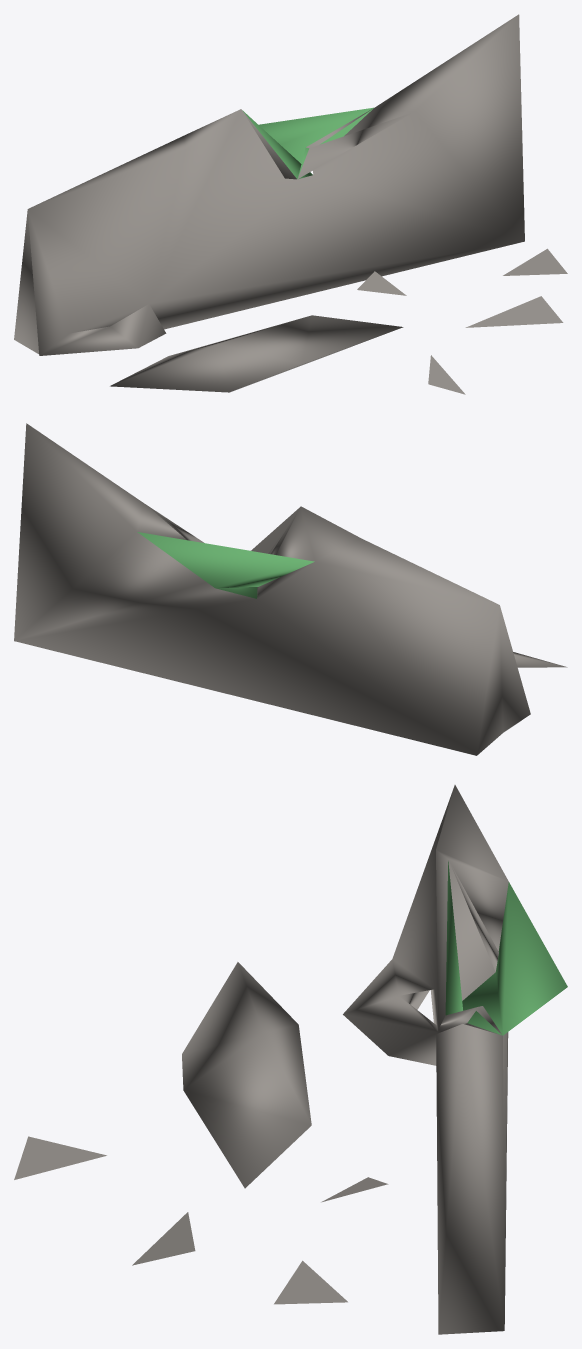
The model's file is poi_ruin_wall_a_lods.glb.
The picture shows the model from 3 angles, top to bottom: view 1: azimuth 30°, elevation 25°; view 2: azimuth 150°, elevation 25°; view 3: azimuth 270°, elevation 25°; orthographic projection. The views are drawn at different scales.
Visible parts, largest first — view 1: poi_ruin_wall_a_far; view 2: poi_ruin_wall_a_far; view 3: poi_ruin_wall_a_far.
Boxes of the visible parts, <box> form: poi_ruin_wall_a_far: <box>14,14,567,394</box>; poi_ruin_wall_a_far: <box>14,423,567,755</box>; poi_ruin_wall_a_far: <box>14,785,567,1334</box>.
Size of what is drawn, in the model's own units: 6.85 by 2.86 by 4.59.
